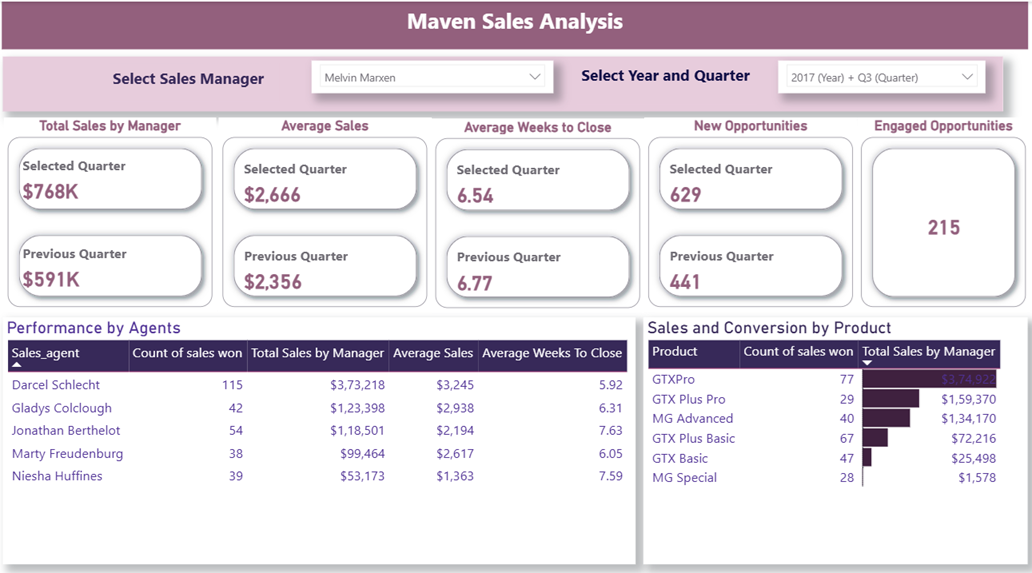

The page's visual inventory and layout, read from the dashboard file:
{"tool":"powerbi","page":{"name":"Selected Quarter Performance by Manager","canvas":[1280,720],"ordinal":0},"visuals":[{"type":"textbox","box":[11,0,1255.8,58.7],"z":0},{"type":"tableEx","title":"Performance by Agents","fields":{"Values":["db_sales_teams.Sales_agent","Measure.Count of sales won","Measure.Total Sales by Manager","Measure.Average Sales","Measure.Average Weeks To Close"]},"box":[12.2,386.4,774.1,302],"z":1000},{"type":"shape","box":[12.2,67.3,1224.1,67.3],"z":3000},{"type":"slicer","fields":{"Values":["db_sales_teams.Manager"]},"box":[389.5,72.1,295.8,40.4],"z":4000},{"type":"slicer","fields":{"Values":["db_Date Table.Year","db_Date Table.Quarter"]},"box":[960.9,72.1,253.9,40.4],"z":5000},{"type":"textbox","box":[141.8,75.8,209.1,46.5],"z":6000},{"type":"textbox","box":[715.4,72.1,220.1,53.8],"z":7000},{"type":"tableEx","title":"Sales and Conversion by Product","fields":{"Values":["db_sales_pipeline.Product","Measure.Count of sales won","Measure.Total Sales by Manager"]},"box":[796.1,386.4,470.8,302],"z":8000},{"type":"cardVisual","title":"Total Sales by Manager","fields":{"Data":["Measure.Total Sales by Manager","Measure.Previous quarter Sales by Manager"]},"box":[13.5,141.8,260,237.2],"z":9000},{"type":"cardVisual","title":"Average Sales","fields":{"Data":["Measure.Average Sales","Measure.Average Sales by Manager Previous Quarter"]},"box":[276.4,141.8,260.5,237.2],"z":10000},{"type":"cardVisual","title":"Average Weeks to Close","fields":{"Data":["Measure.Average Weeks To Close","Measure.Average Weeks To Close Previous Quarter"]},"box":[536.8,143.1,260.5,237.2],"z":11000},{"type":"cardVisual","title":"New Opportunities","fields":{"Data":["Measure.New Opportunities for Manager","Measure.New Opportunities for Manager Previous Quarter"]},"box":[797.3,141.8,260.5,237.2],"z":12000},{"type":"cardVisual","title":"Engaged Opportunities","fields":{"Data":["Measure.Engaged Opportunities"]},"box":[1057.8,141.8,211.6,237.2],"z":13000}]}

Visuals, with their boxes in screenshot pixels (x1, y1, x2, y2), scaled from the page's 1280x720 canvas onto the 1032x573 screenshot:
textbox: (x1=9, y1=0, x2=1021, y2=47)
"Performance by Agents" tableEx: (x1=10, y1=308, x2=634, y2=548)
shape: (x1=10, y1=54, x2=997, y2=107)
slicer - db_sales_teams.Manager: (x1=314, y1=57, x2=553, y2=90)
slicer - db_Date Table.Year x db_Date Table.Quarter: (x1=775, y1=57, x2=979, y2=90)
textbox: (x1=114, y1=60, x2=283, y2=97)
textbox: (x1=577, y1=57, x2=754, y2=100)
"Sales and Conversion by Product" tableEx: (x1=642, y1=308, x2=1021, y2=548)
"Total Sales by Manager" cardVisual: (x1=11, y1=113, x2=221, y2=302)
"Average Sales" cardVisual: (x1=223, y1=113, x2=433, y2=302)
"Average Weeks to Close" cardVisual: (x1=433, y1=114, x2=643, y2=303)
"New Opportunities" cardVisual: (x1=643, y1=113, x2=853, y2=302)
"Engaged Opportunities" cardVisual: (x1=853, y1=113, x2=1023, y2=302)
